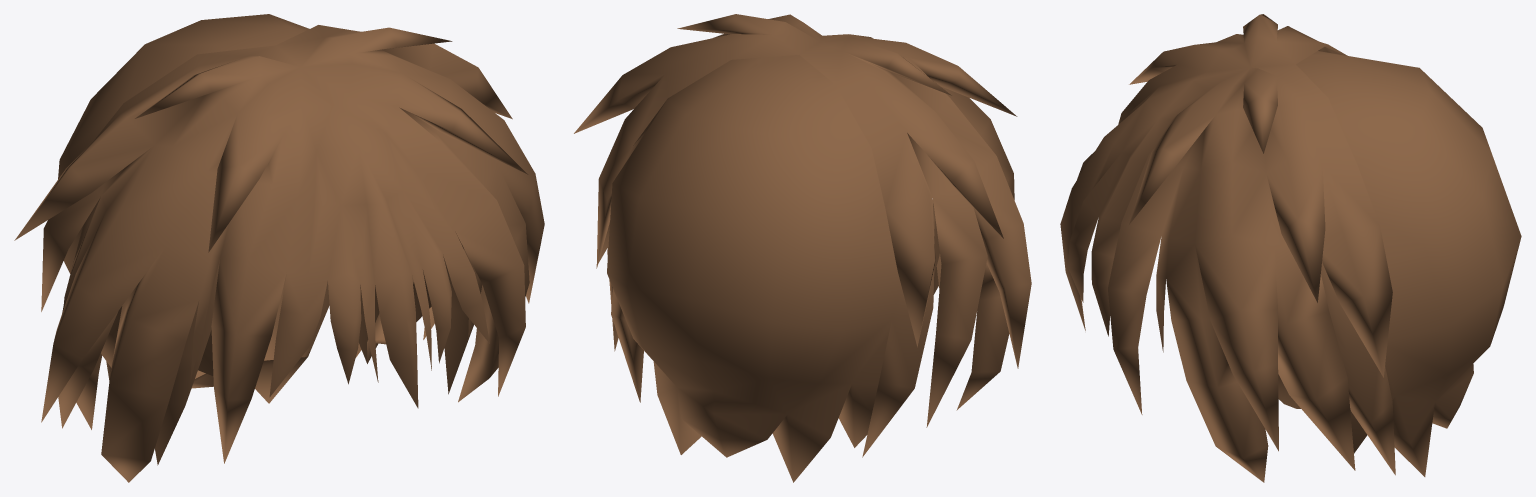
The model's file is hair.fbx.
3 views of the same model, side by side, from view 1: azimuth 30°, elevation 25°; view 2: azimuth 150°, elevation 25°; view 3: azimuth 270°, elevation 25° (orthographic). The views are drawn at different scales.
Visible parts, largest first — view 1: ahairrr; view 2: ahairrr; view 3: ahairrr.
Boxes of the visible parts, bbox=[...] form: ahairrr: bbox=[14, 14, 544, 482]; ahairrr: bbox=[574, 14, 1031, 482]; ahairrr: bbox=[1060, 14, 1521, 482].
Size of the model in its own units: 40.29 by 34.02 by 35.84.
